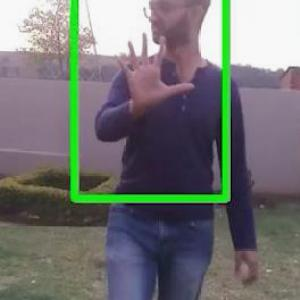follow_hand: (112, 27, 196, 112)
